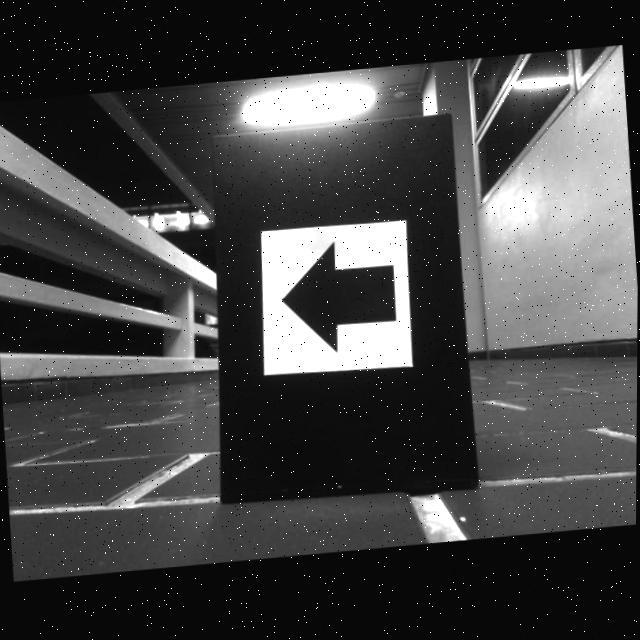LEFT: (281, 241, 397, 356)
